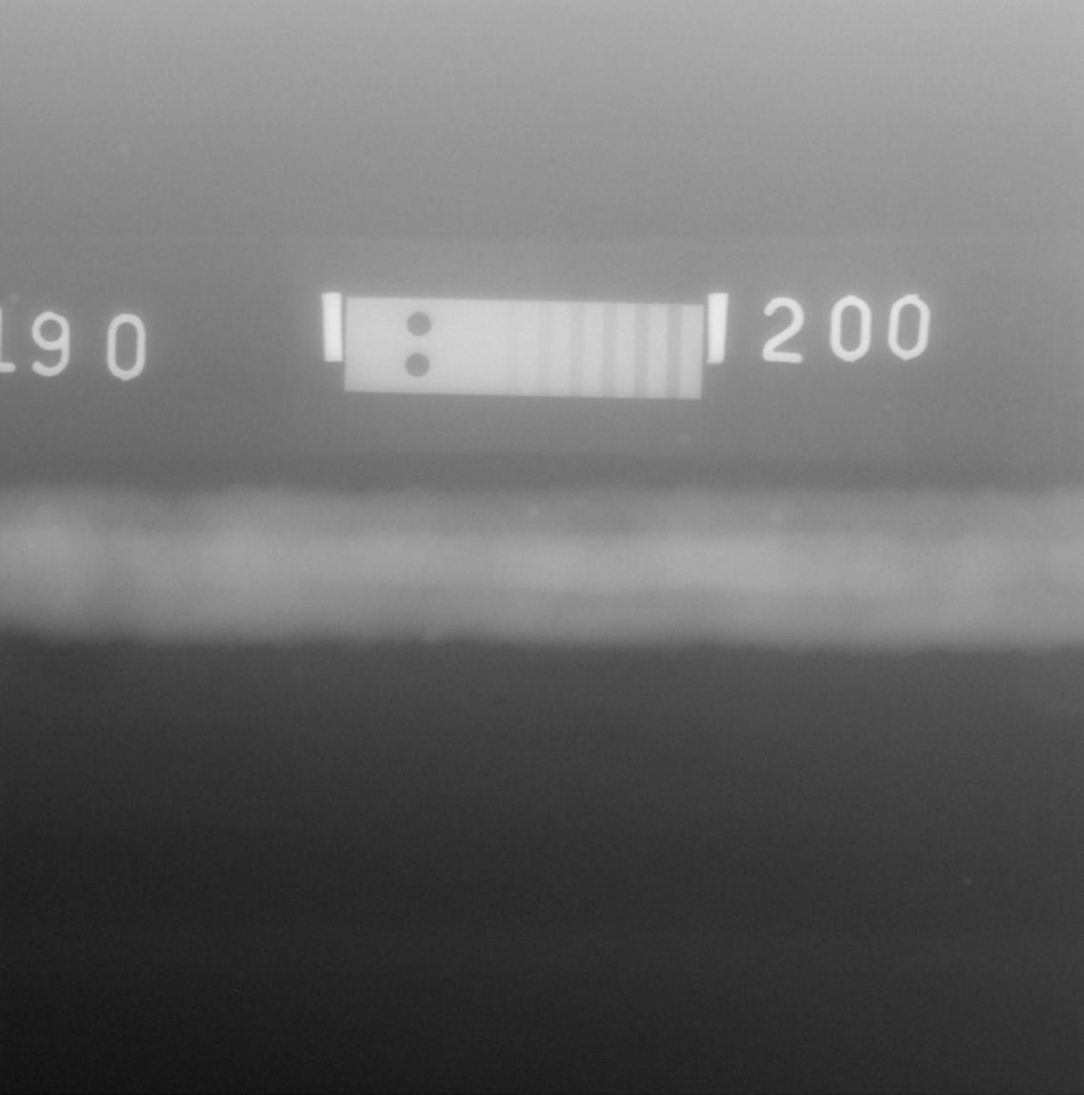Pore/Porosity: (788, 544, 794, 549), (846, 525, 849, 529)
Reference Standard 2: (345, 297, 704, 399)
